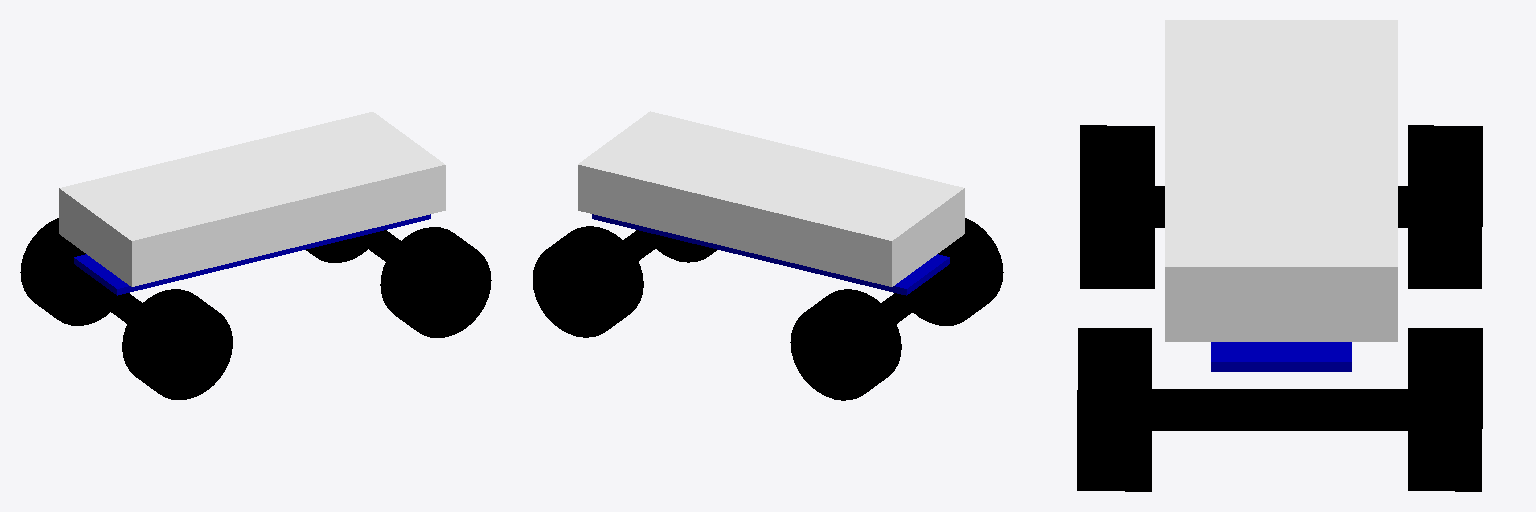
The robot description file, URDF, robot "xycar":
<?xml version="1.0" ?>
<robot name="xycar" xmlns:xacro="http://www.ros.org/wiki/xacro">
 <link name="base_link"/>
  <link name="baseplate">
    <visual>
      <material name="acrylic"/>
      <origin rpy="0 0 0" xyz="0 0 0"/>
      <geometry>
        <box size="0.5 0.2 0.07"/>
      </geometry>
    </visual>
  </link>
  <joint name="base_link_to_baseplate" type="fixed">
    <parent link="base_link"/>
    <child link="baseplate"/>
    <origin rpy="0 0 0" xyz="0 0 0"/>
  </joint>
  <link name="front_mount">
    <visual>
      <material name="blue"/>
      <origin rpy="0 0.0 0" xyz="-0.105 0 0"/>
      <geometry>
        <box size="0.50 0.12 0.01"/>
      </geometry>
    </visual>
  </link>
  <joint name="baseplate_to_front_mount" type="fixed">
    <parent link="baseplate"/>
    <child link="front_mount"/>
    <origin rpy="0 0 0" xyz="0.105 0 -0.059"/>
  </joint>

  <link name="front_shaft">
    <visual>
      <material name="black"/>
      <origin rpy="1.57 0 0" xyz="0 0 0"/>
      <geometry>
        <cylinder length="0.285" radius="0.018"/>
      </geometry>
    </visual>
  </link>
  <joint name="front_mount_to_front_shaft" type="fixed">
    <parent link="front_mount"/>
    <child link="front_shaft"/>
    <origin rpy="0 0 0" xyz="0.105 0 -0.059"/>
  </joint>
  <link name="rear_shaft">
    <visual>
      <material name="black"/>
      <origin rpy="1.57 0 0" xyz="0 0 0"/>
      <geometry>
        <cylinder length="0.285" radius="0.018"/>
      </geometry>
    </visual>
  </link>
  <joint name="rear_mount_to_rear_shaft" type="fixed">
    <parent link="front_mount"/>
    <child link="rear_shaft"/>
    <origin rpy="0 0 0" xyz="-0.305 0 -0.059"/>
  </joint>
  <link name="front_right_hinge">
    <visual>
      <material name="white"/>
      <origin rpy="0 0 0" xyz="0 0 0"/>
      <geometry>
        <sphere radius="0.015"/>
      </geometry>
    </visual>
  </link>
  <joint name="front_right_hinge_joint" type="revolute">
    <parent link="front_shaft"/>
    <child link="front_right_hinge"/>
    <origin rpy="0 0 0" xyz="0 -0.1425 0"/>
    <axis xyz="0 0 1"/>
    <limit effort="10" lower="-0.34" 
                       upper="0.34" velocity="100"/>
  </joint>
  <link name="front_left_hinge">
    <visual>
      <material name="white"/>
      <origin rpy="0 0 0" xyz="0 0 0"/>
      <geometry>
        <sphere radius="0.015"/>
      </geometry>
    </visual>
  </link>
  <joint name="front_left_hinge_joint" type="revolute">
    <parent link="front_shaft"/>
    <child link="front_left_hinge"/>
    <origin rpy="0 0 0" xyz="0 0.14 0"/>
    <axis xyz="0 0 1"/>
    <limit effort="10" lower="-0.34" upper="0.34" velocity="100"/>
  </joint>
  <link name="front_right_wheel">
    <visual>
      <material name="black"/>
      <origin rpy="1.57 0 0" xyz="0 0 0"/>
      <geometry>
        <cylinder length="0.064" radius="0.07"/>
      </geometry>
    </visual>
  </link>
  <joint name="front_right_wheel_joint" type="continuous">
    <parent link="front_right_hinge"/>
    <child link="front_right_wheel"/>
    <origin rpy="0 0 0" xyz="0 0 0"/>
    <axis xyz="0 1 0"/>
    <limit effort="10" velocity="100"/>
  </joint>
  <link name="front_left_wheel">
    <visual>
      <material name="black"/>
      <origin rpy="1.57 0 0" xyz="0 0 0"/>
      <geometry>
        <cylinder length="0.064" radius="0.07"/>
      </geometry>
    </visual>
  </link>
  <joint name="front_left_wheel_joint" type="continuous">
    <parent link="front_left_hinge"/>
    <child link="front_left_wheel"/>
    <origin rpy="0 0 0" xyz="0 0 0"/>
    <axis xyz="0 1 0"/>
    <limit effort="10" velocity="100"/>
  </joint>
  <link name="rear_right_wheel">
    <visual>
      <material name="black"/>
      <origin rpy="1.57 0 0" xyz="0 0 0"/>
      <geometry>
        <cylinder length="0.064" radius="0.07"/>
      </geometry>
    </visual>
  </link>
  <joint name="rear_right_wheel_joint" type="continuous">
    <parent link="rear_shaft"/>
    <child link="rear_right_wheel"/>
    <origin rpy="0 0 0" xyz="0 -0.14 0"/>
    <axis xyz="0 1 0"/>
    <limit effort="10" velocity="100"/>
  </joint>
  <link name="rear_left_wheel">
    <visual>
      <material name="black"/>
      <origin rpy="1.57 0 0" xyz="0 0 0"/>
      <geometry>
        <cylinder length="0.064" radius="0.07"/>
      </geometry>
    </visual>
  </link>
  <joint name="rear_left_wheel_joint" type="continuous">
    <parent link="rear_shaft"/>
    <child link="rear_left_wheel"/>
    <origin rpy="0 0 0" xyz="0 0.14 0"/>
    <axis xyz="0 1 0"/>
    <limit effort="10" velocity="100"/>
  </joint>
  <material name="black">
    <color rgba="0.0 0.0 0.0 1.0"/>
  </material>
  <material name="blue">
    <color rgba="0.0 0.0 0.8 1.0"/>
  </material>
  <material name="green">
    <color rgba="0.0 0.8 0.0 1.0"/>
  </material>
  <material name="grey">
    <color rgba="0.2 0.2 0.2 1.0"/>
  </material>
  <material name="orange">
    <color rgba="1.0 0.423529411765 0.0392156862745 1.0"/>
  </material>
  <material name="brown">
    <color rgba="0.870588235294 0.811764705882 0.764705882353 1.0"/>
  </material>
  <material name="red">
    <color rgba="0.8 0.0 0.0 1.0"/>
  </material>
  <material name="white">
    <color rgba="1.0 1.0 1.0 1.0"/>
  </material>
  <material name="acrylic">
    <color rgba="1.0 1.0 1.0 0.4"/>
  </material>
</robot>

--- Render facts (derived) ---
The picture shows the robot from 3 angles, left to right: view 1: azimuth 30°, elevation 25°; view 2: azimuth 150°, elevation 25°; view 3: azimuth 270°, elevation 25°; orthographic projection.
Model xycar with 11 links and 10 joints (2 revolute, 4 continuous, 4 fixed), rooted at base_link, posed all joints at 0.
Links seen in each view (by area): view 1: baseplate, rear_right_wheel, front_right_wheel, rear_left_wheel, front_mount, rear_shaft, front_left_wheel, front_shaft; view 2: baseplate, front_left_wheel, rear_left_wheel, rear_right_wheel, front_mount, rear_shaft, front_right_wheel, front_shaft; view 3: baseplate, rear_right_wheel, front_right_wheel, front_left_wheel, rear_left_wheel, front_shaft, front_mount, rear_shaft.
Link boxes in pixels (left/top/right/bottom): baseplate: left=59, top=112, right=445, bottom=286; rear_right_wheel: left=122, top=289, right=232, bottom=399; front_right_wheel: left=380, top=227, right=491, bottom=337; rear_left_wheel: left=20, top=218, right=109, bottom=325; front_mount: left=74, top=214, right=430, bottom=295; rear_shaft: left=76, top=270, right=141, bottom=323; front_left_wheel: left=306, top=238, right=367, bottom=262; front_shaft: left=354, top=230, right=400, bottom=261; baseplate: left=578, top=111, right=964, bottom=286; front_left_wheel: left=533, top=226, right=643, bottom=337; rear_left_wheel: left=790, top=289, right=901, bottom=400; rear_right_wheel: left=913, top=218, right=1003, bottom=325; front_mount: left=592, top=214, right=949, bottom=295; rear_shaft: left=882, top=270, right=947, bottom=323; front_right_wheel: left=656, top=238, right=716, bottom=262; front_shaft: left=623, top=230, right=669, bottom=260; baseplate: left=1165, top=20, right=1397, bottom=341; rear_right_wheel: left=1080, top=125, right=1154, bottom=288; front_right_wheel: left=1077, top=328, right=1151, bottom=491; front_left_wheel: left=1408, top=328, right=1482, bottom=491; rear_left_wheel: left=1408, top=125, right=1482, bottom=288; front_shaft: left=1152, top=389, right=1407, bottom=430; front_mount: left=1211, top=342, right=1351, bottom=371; rear_shaft: left=1155, top=186, right=1407, bottom=227.
Size in the robot's own frame: 0.55 by 0.3466 by 0.223 metres.
Geometry: primitives only (box / cylinder / sphere), no mesh files.